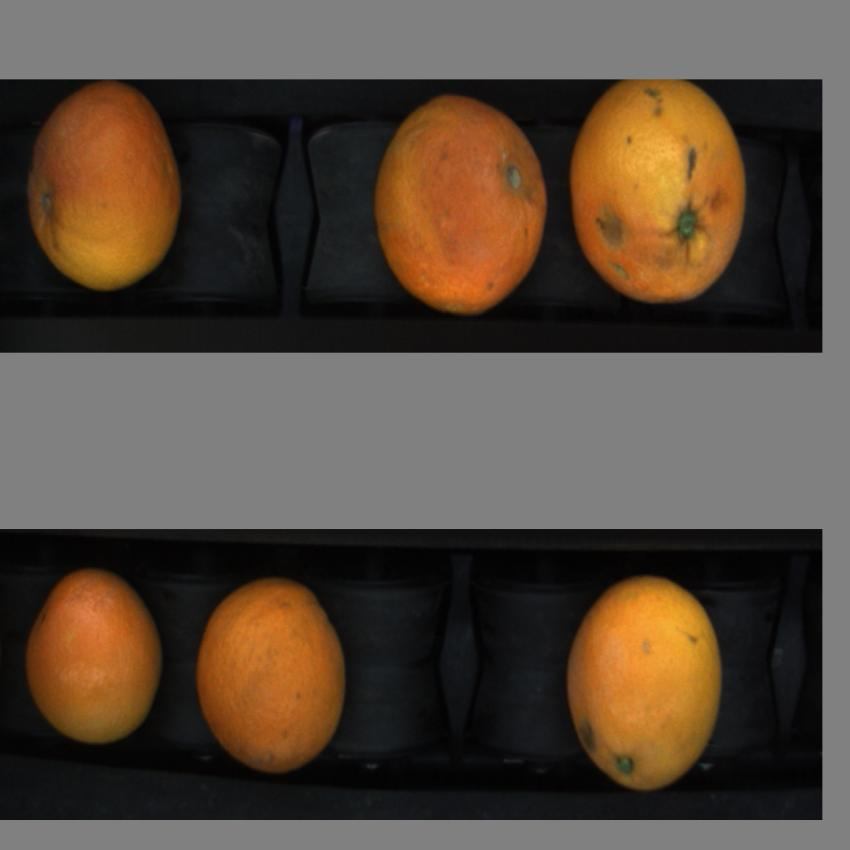Buen estado: (564, 83, 756, 314), (558, 568, 730, 805), (23, 83, 186, 314), (190, 569, 356, 795), (21, 559, 168, 766)
Mal estado: (366, 87, 552, 332)
